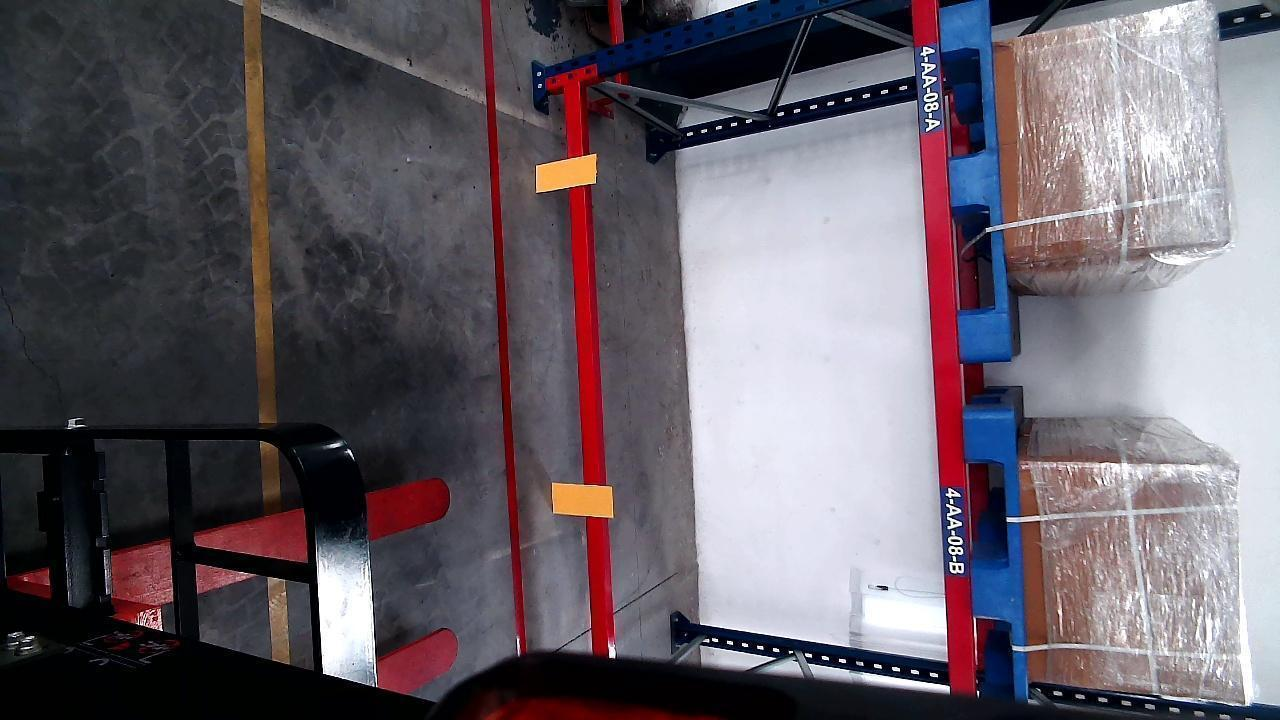red_line: (476, 0, 527, 649)
yellow_line: (245, 2, 276, 417)
